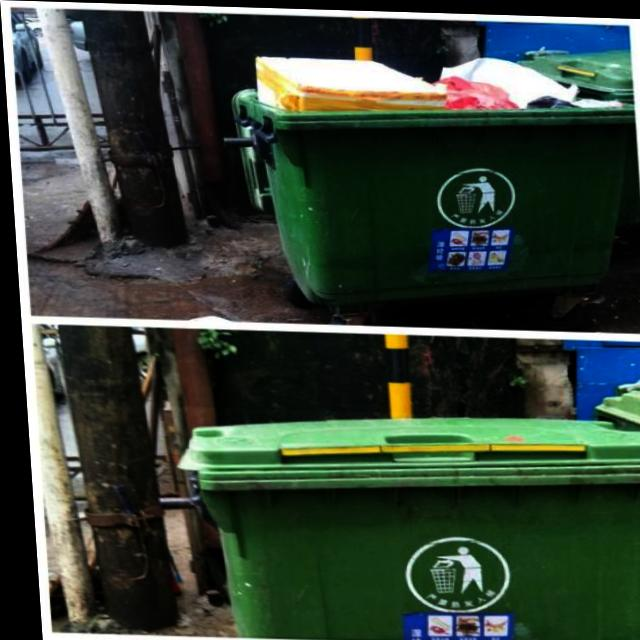garbage_bin: (166, 405, 640, 640)
overflow: (226, 47, 640, 308)
